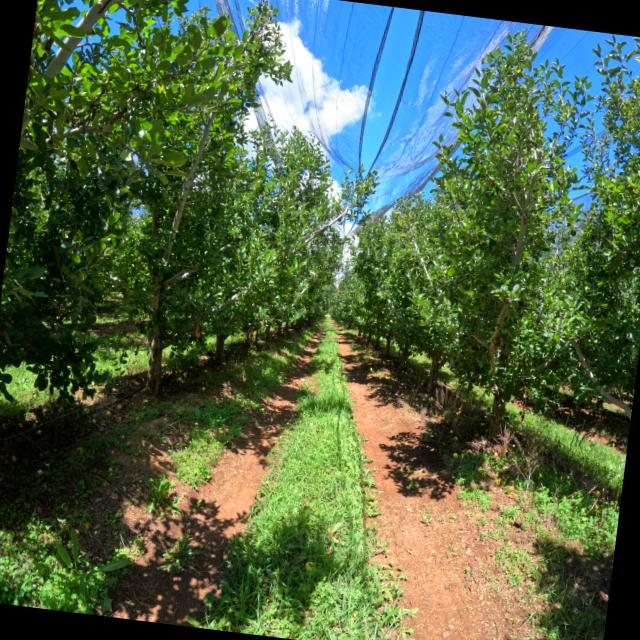-FireBlight-: (194, 328, 200, 338)
